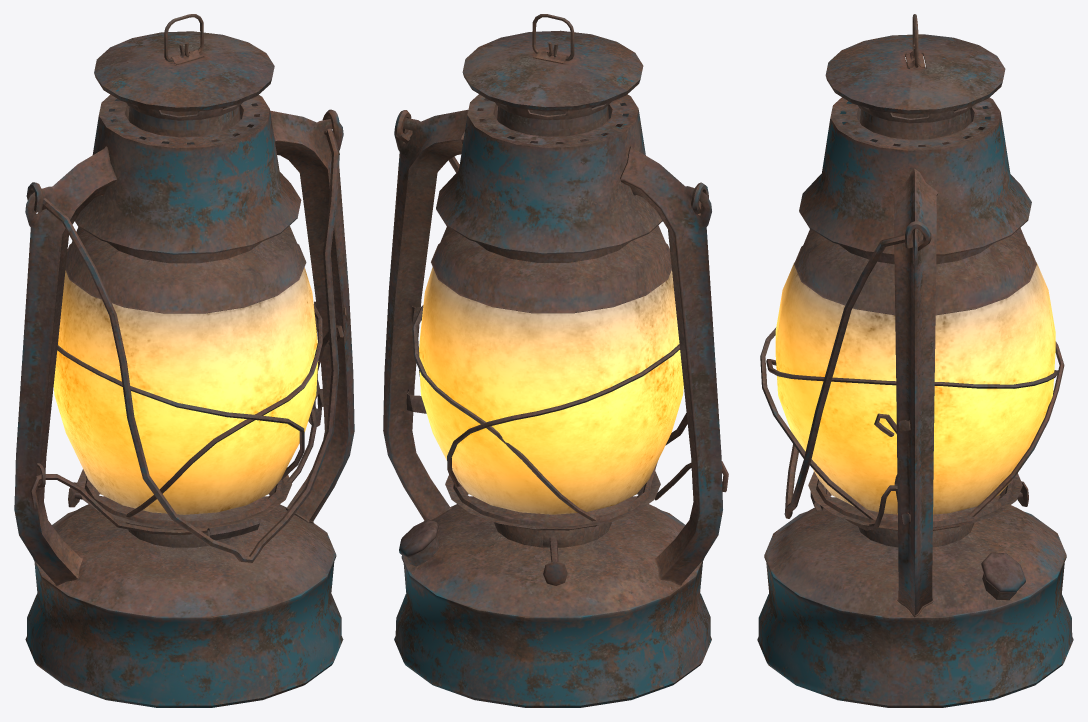
Rendered from lantern-2-Lowpoly-fbx.FBX.
3 renders of one model, left to right at view 1: azimuth 30°, elevation 25°; view 2: azimuth 150°, elevation 25°; view 3: azimuth 270°, elevation 25°, orthographic.
Parts seen in each view (by area): view 1: metal_low, glass_low; view 2: metal_low, glass_low; view 3: metal_low, glass_low.
Part boxes in pixels (box(x1,y1,x2,y2)): metal_low: box(14, 14, 354, 707); glass_low: box(53, 267, 318, 514); metal_low: box(383, 14, 728, 707); glass_low: box(419, 267, 683, 514); metal_low: box(757, 14, 1073, 707); glass_low: box(775, 262, 1055, 514).
Size of the model in its own units: 3.84 by 6.77 by 3.11.
